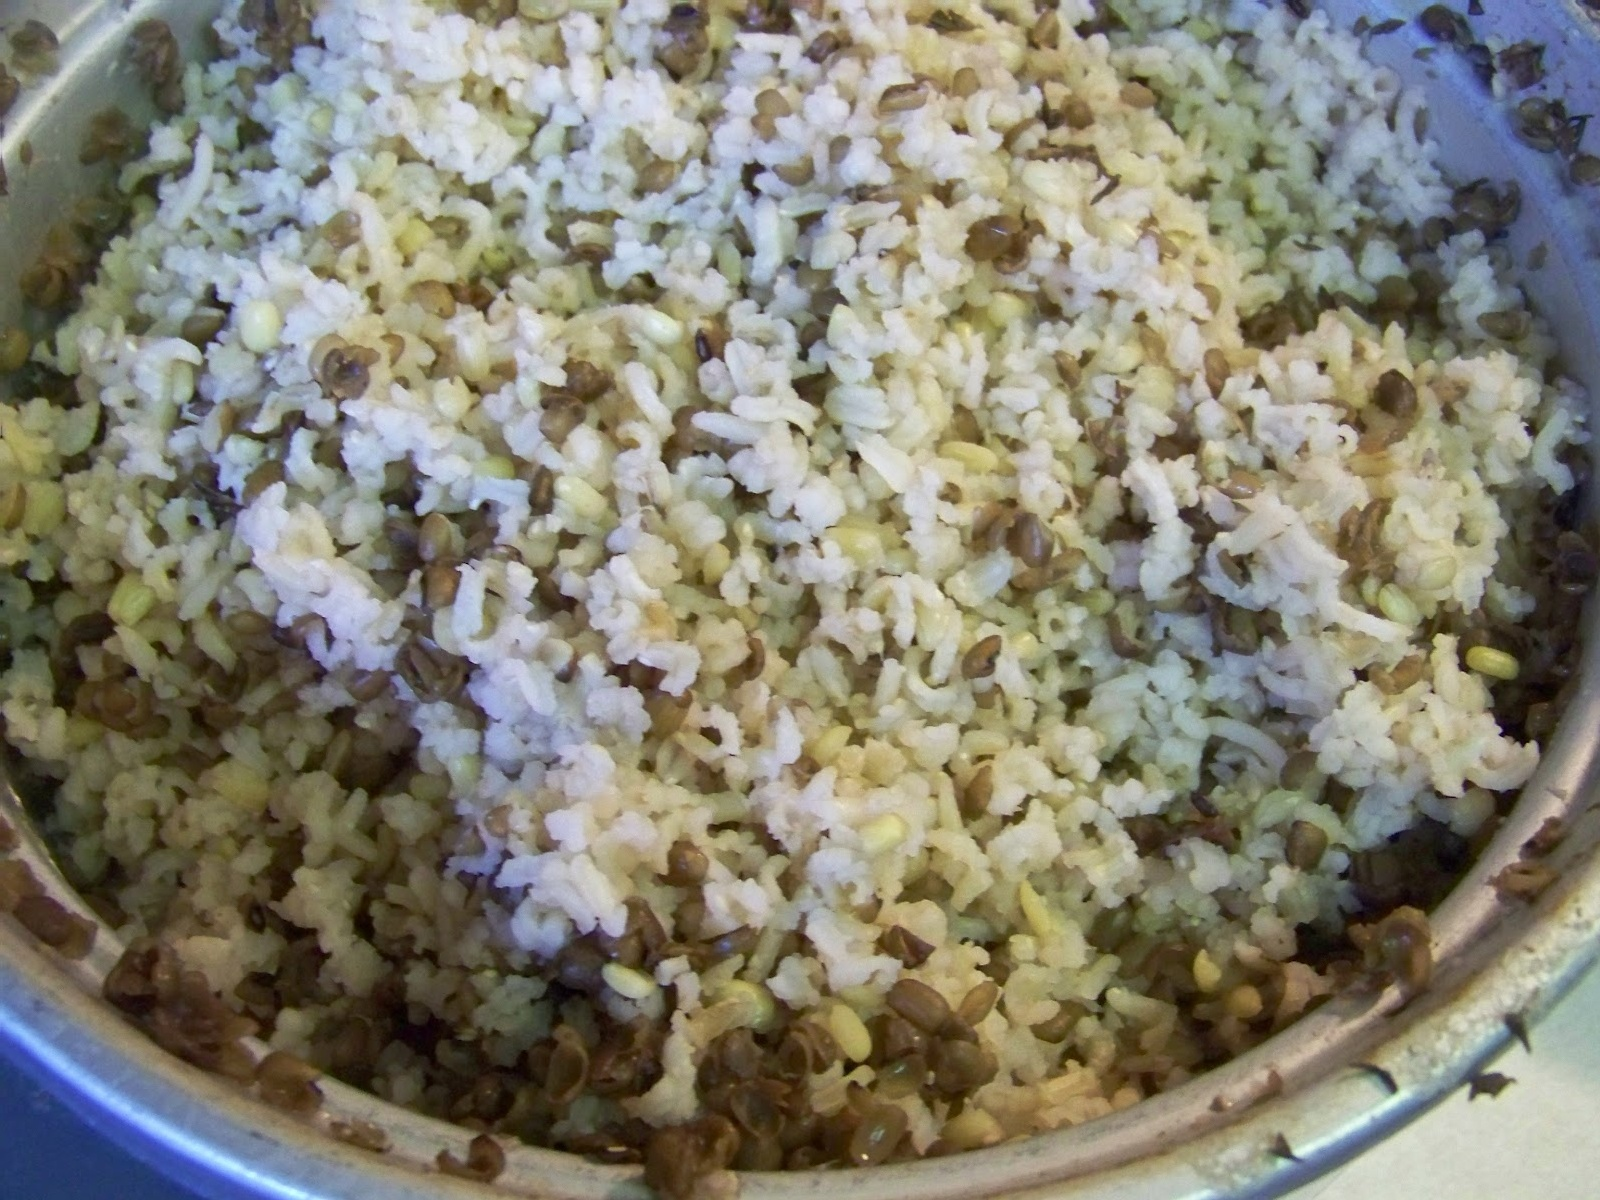kiribath: (43, 10, 1599, 1168)
